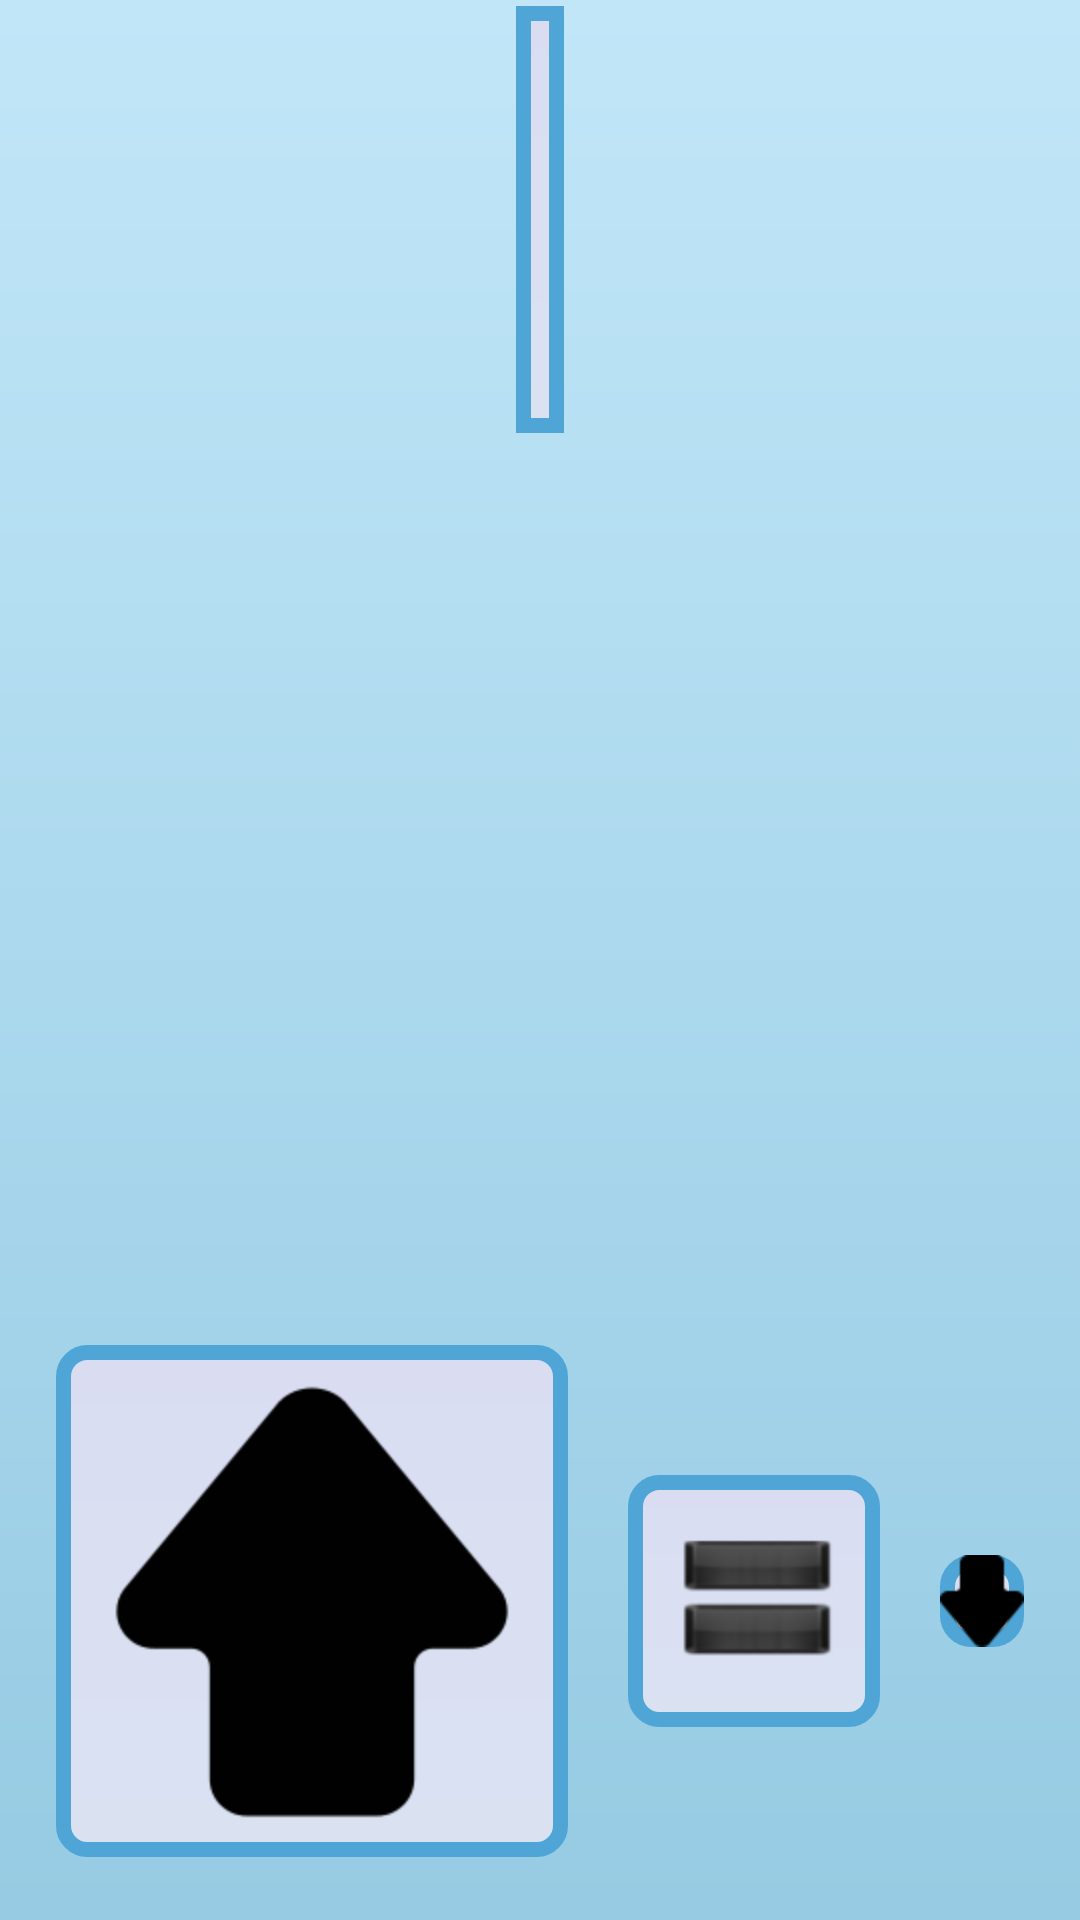

Named icons in this screenshot (1080 x 1920) and their bounding boxes, box=[x1, y1, x2, y2]:
Lower: box=[940, 1555, 1024, 1647]
